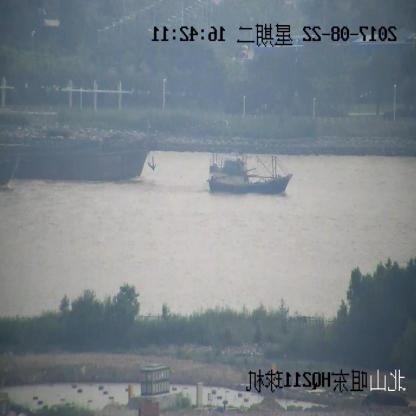Bulk Carrier: (1, 121, 228, 183)
